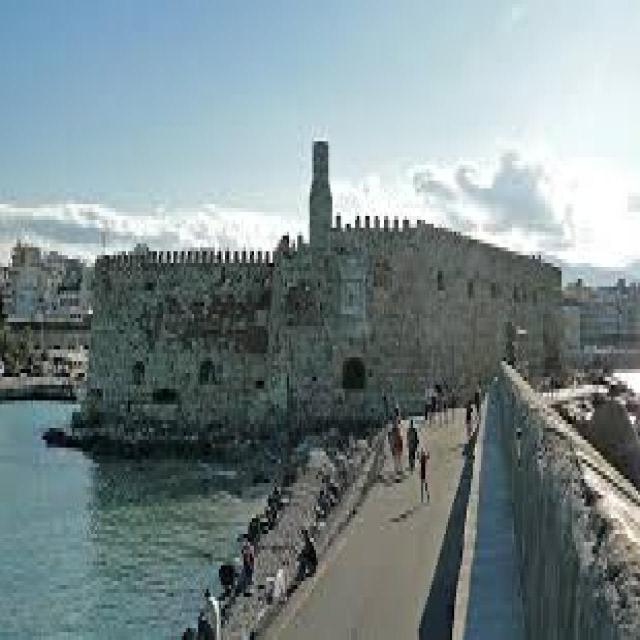Kules: (72, 144, 560, 445)
